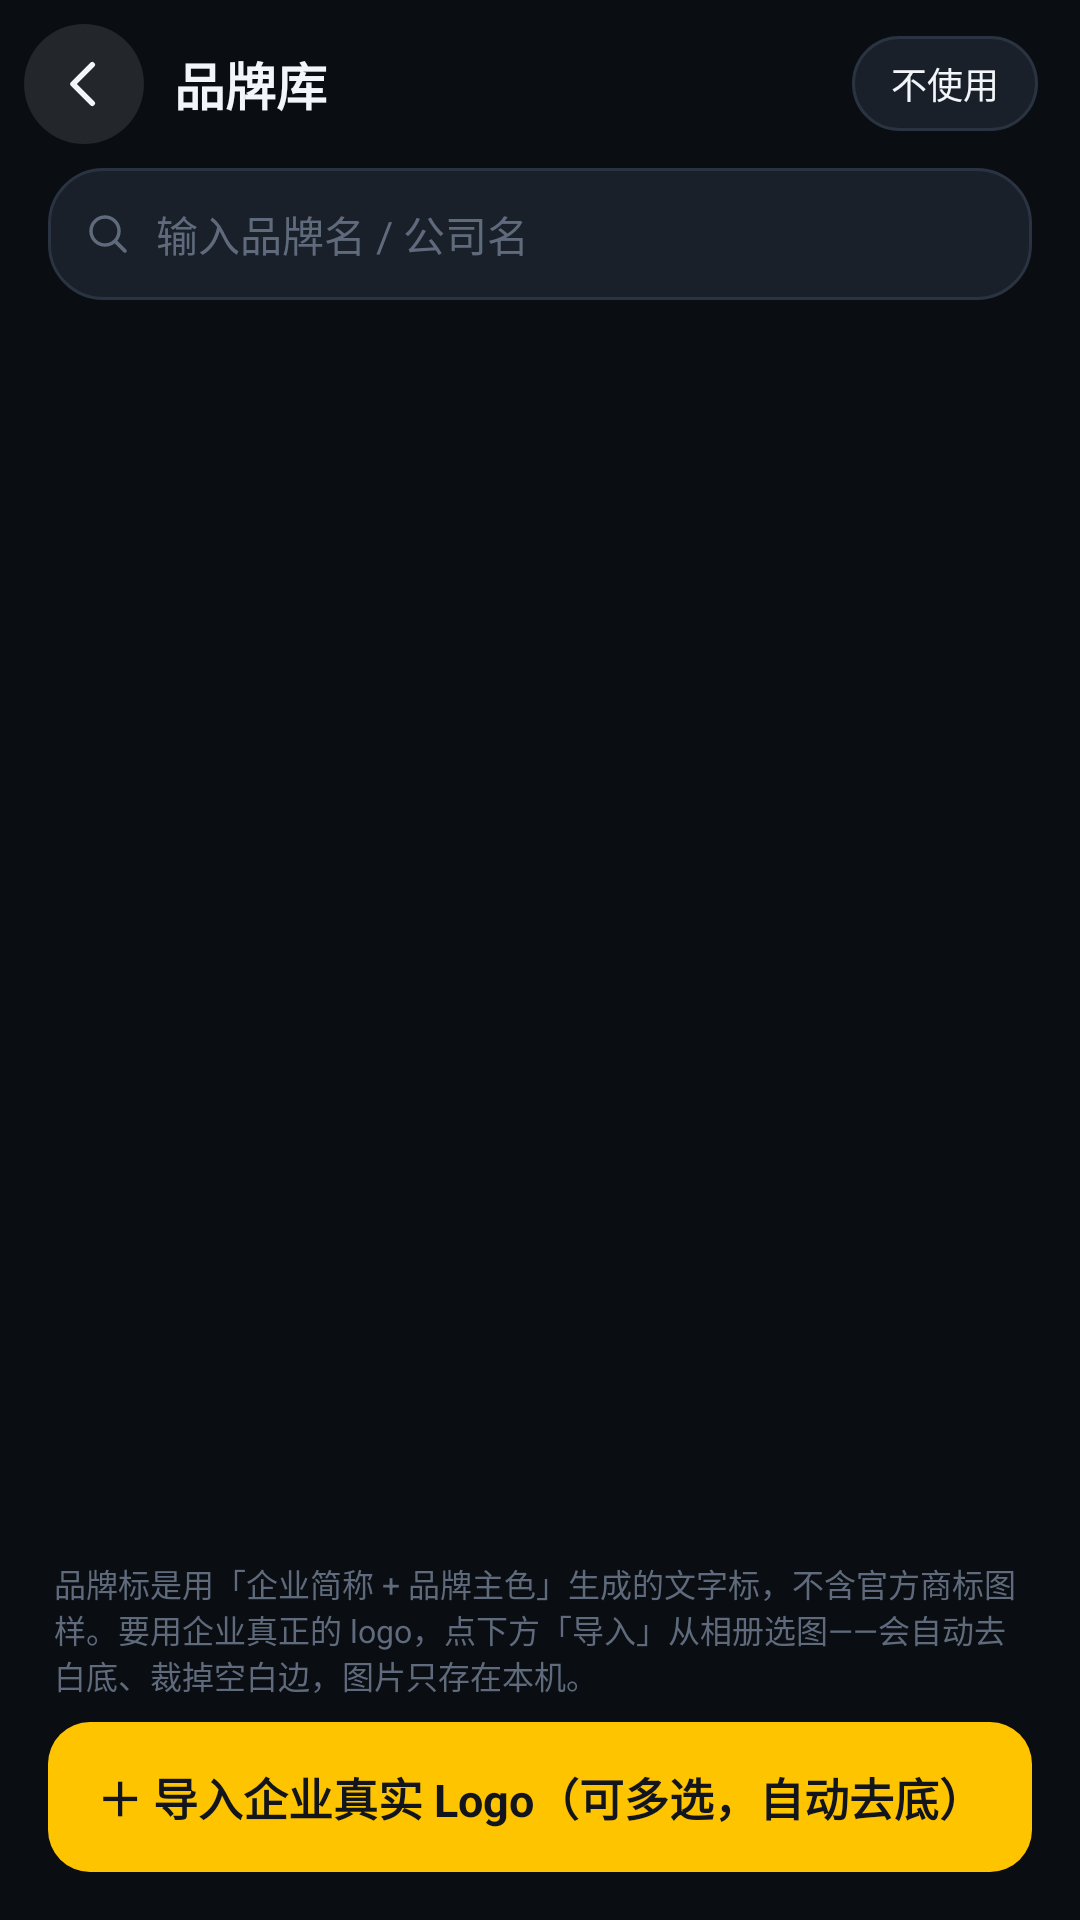

Icons on this 1080px×1920px Android screen, each with its box as detection(x1, y1, x2, y2):
back: detection(25, 24, 143, 144)
search: detection(89, 215, 127, 253)
